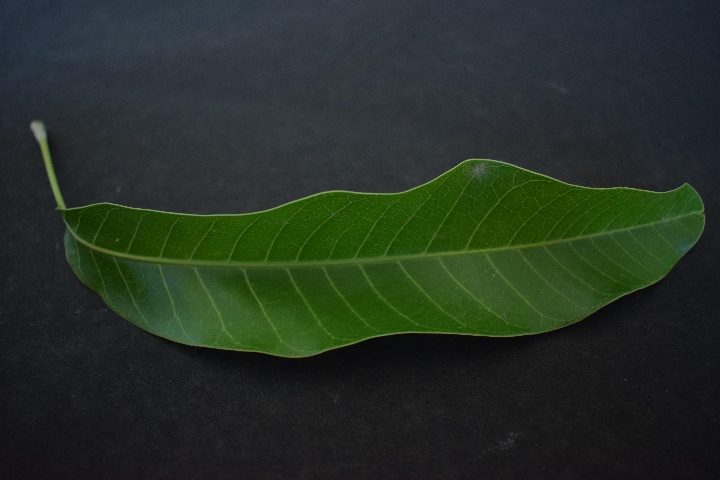healthy: (57, 154, 697, 361)
